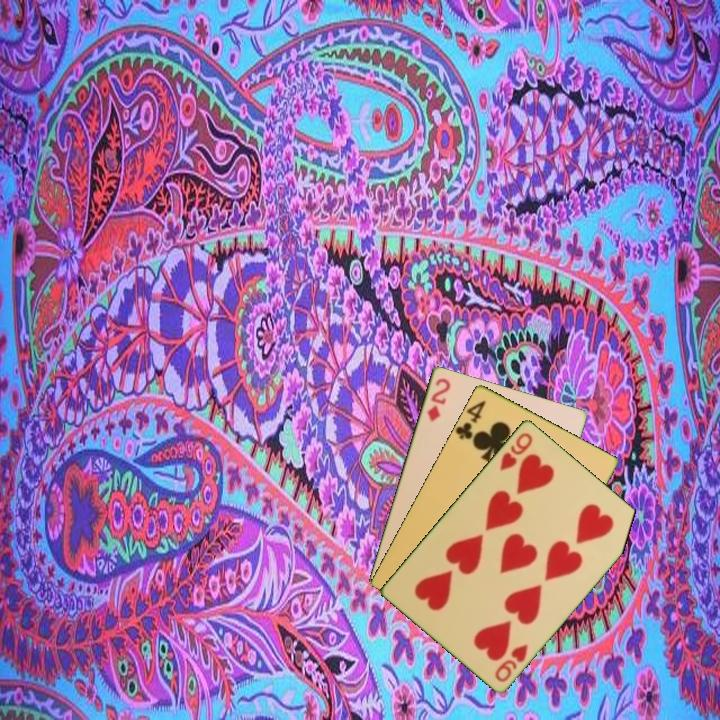2d: (423, 374, 453, 424)
4c: (452, 397, 489, 442)
9h: (491, 640, 531, 685), (496, 428, 535, 473)
